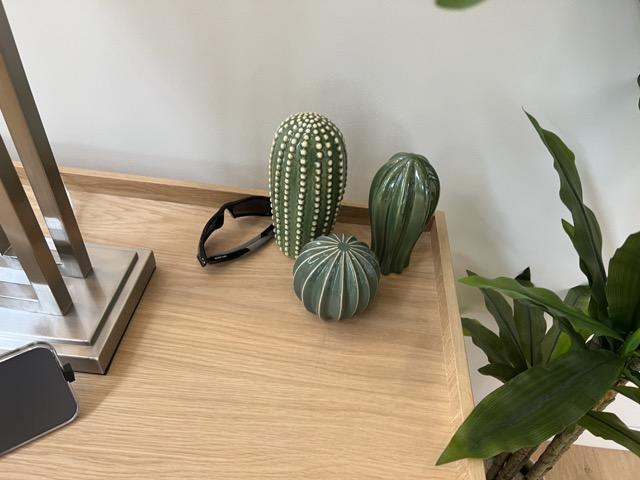Sunglasses: (195, 192, 277, 266)
